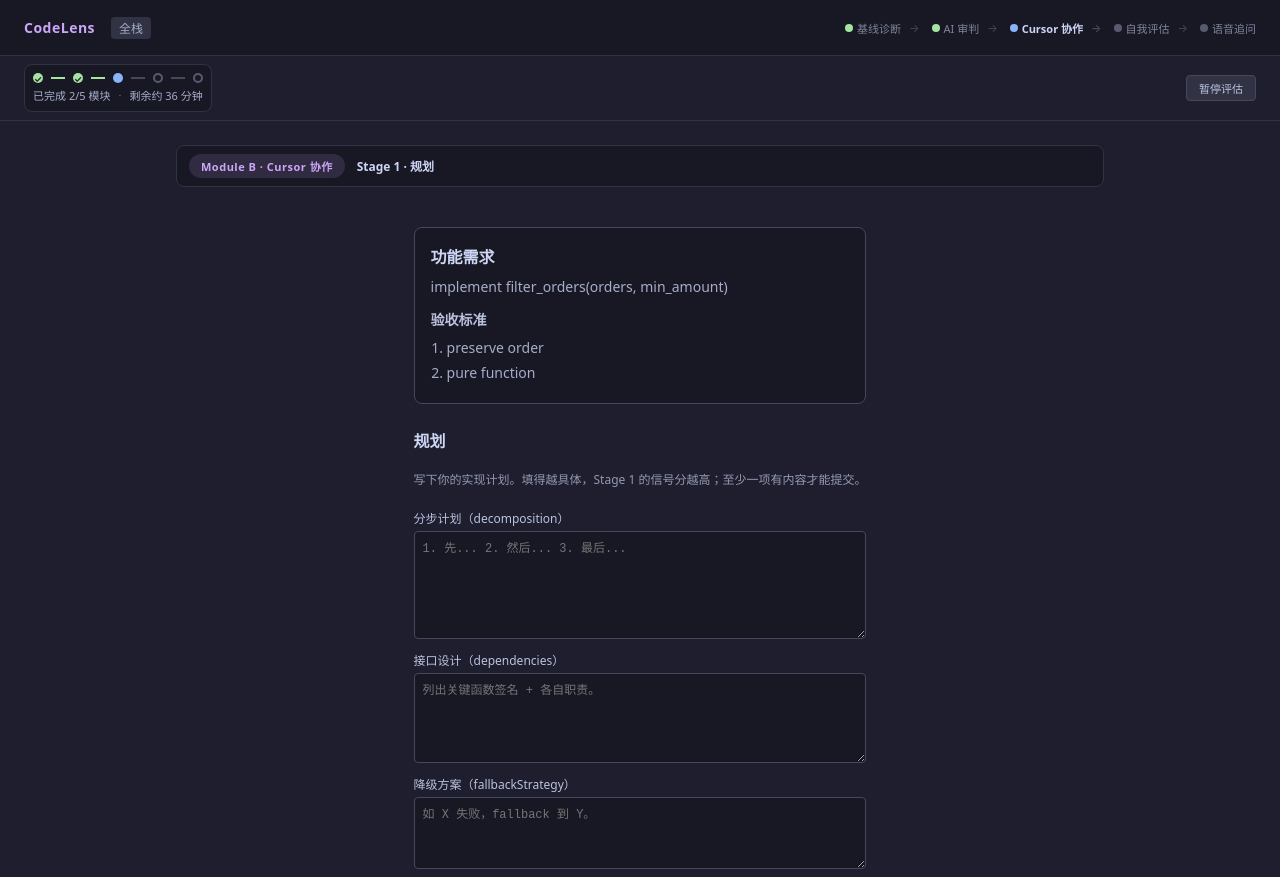
ModuleBPage · Stage 1 (planning) › planning ack=false keeps the candidate on Stage 1
Type "plan" into the text box with test id "mb-planning-decomposition" at x=640, y=585, box [414, 531, 866, 639]
(page scrolled)
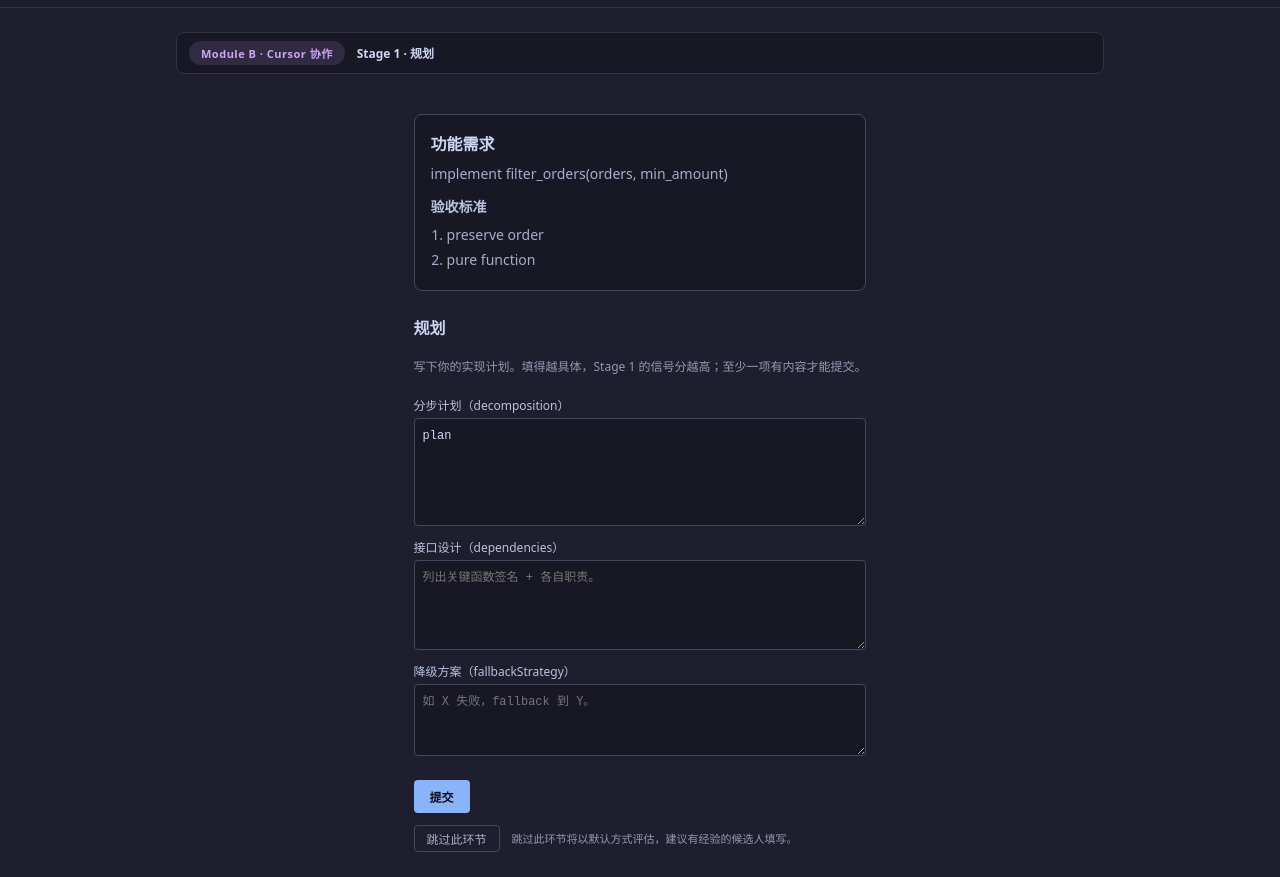
Click the button with test id "mb-planning-submit" at x=442, y=796, box [414, 780, 470, 813]
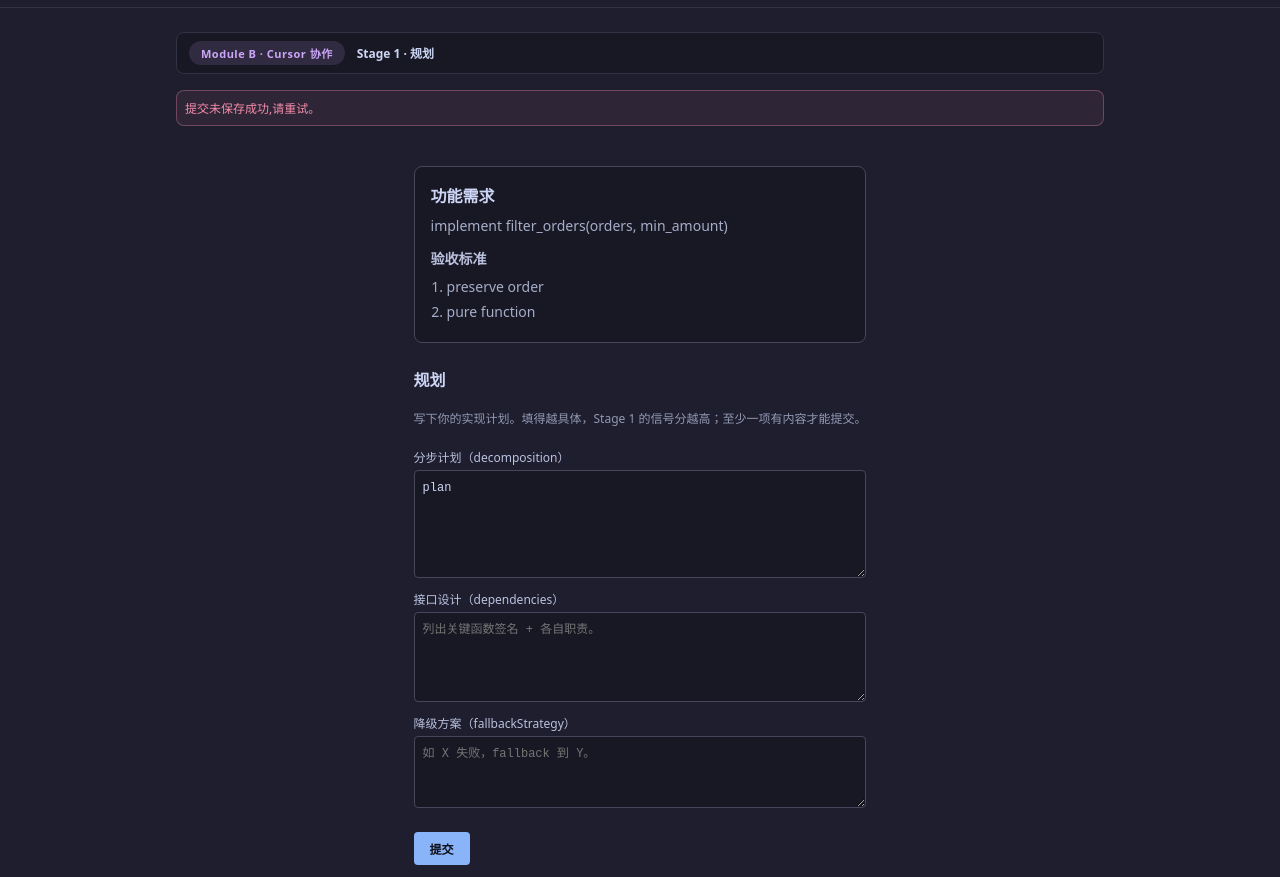
Check: the text with test id "mb-stage-label" shows "Stage 1", box [357, 45, 434, 62]
Check: the text "提交未保存成功,请重试。" is shown, box [176, 90, 1104, 126]
